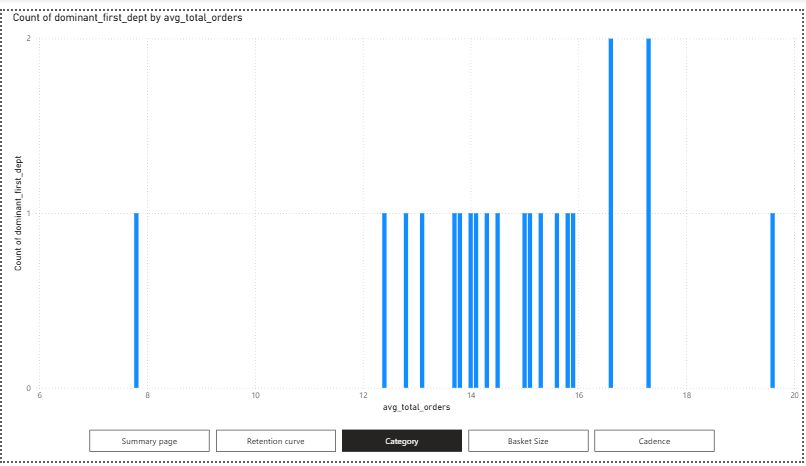

What the dashboard file says about the page in this screenshot:
{"tool":"powerbi","page":{"name":"Category","canvas":[1280,720],"ordinal":2},"visuals":[{"type":"clusteredColumnChart","fields":{"Y":["CountNonNull(public vw_first_order_dept_retention.dominant_first_dept)"],"Category":["public vw_first_order_dept_retention.avg_total_orders"]},"box":[11.9,0,1267.8,646.7],"z":0},{"type":"pageNavigator","box":[140.4,670.5,1000.8,35.6],"z":1}]}

Visuals, with their boxes in screenshot pixels (x1, y1, x2, y2), scaled from the page's 1280x720 canvas onto the 806x466 screenshot:
clusteredColumnChart - CountNonNull(public vw_first_order_dept_retention.dominant_first_dept) x public vw_first_order_dept_retention.avg_total_orders: l=7, t=0, r=805, b=419
pageNavigator: l=88, t=434, r=719, b=457
